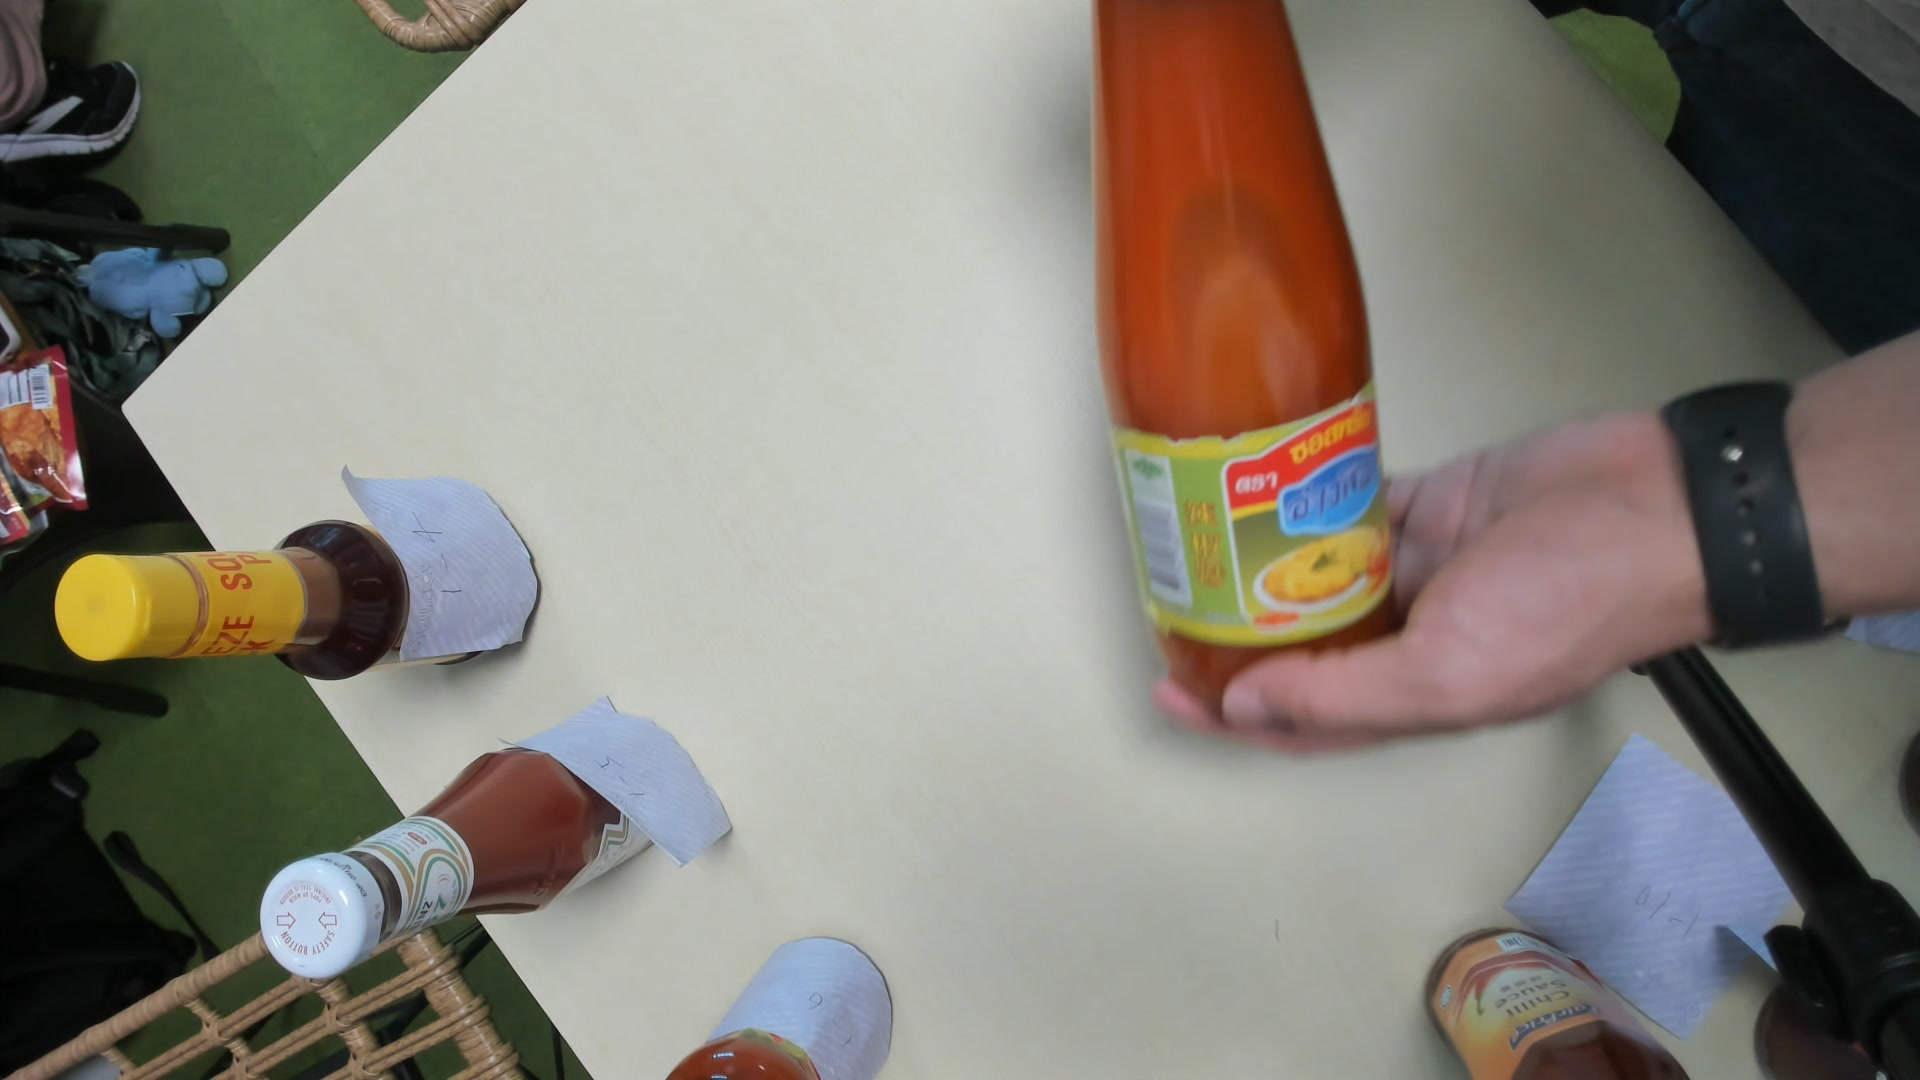KetchupChillSauce_600-699g_Halal_NonHealthy: (1085, 3, 1402, 709)
